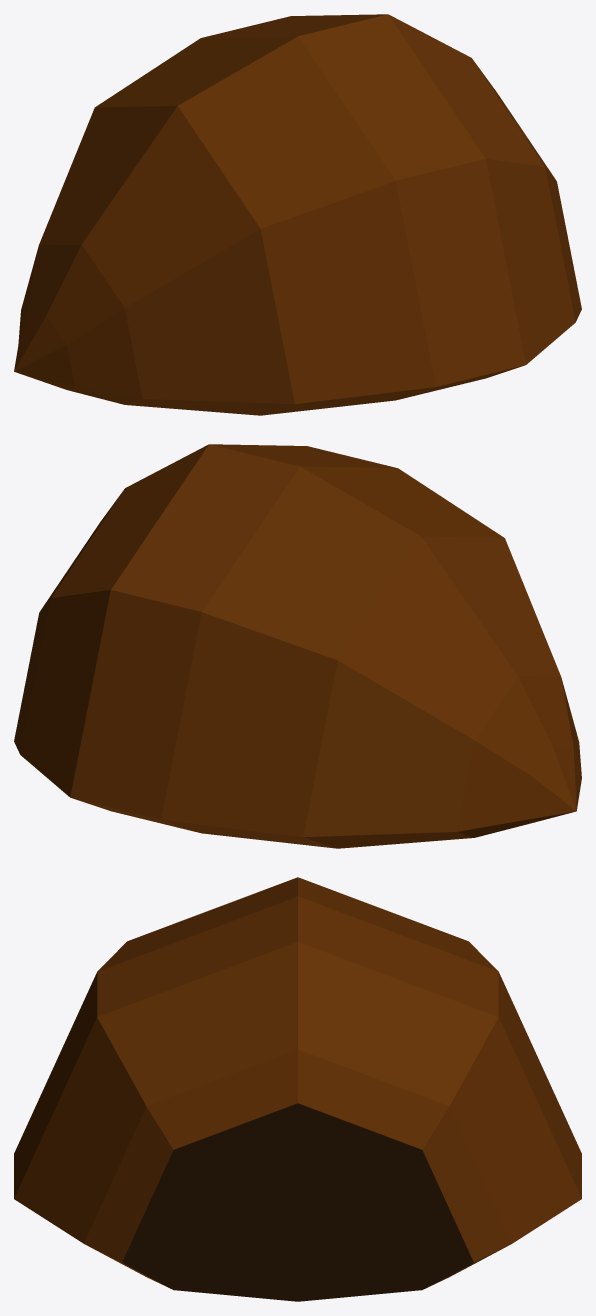
File: chestnut01.obj
3 renders of one model, top to bottom at view 1: azimuth 30°, elevation 25°; view 2: azimuth 150°, elevation 25°; view 3: azimuth 270°, elevation 25°, orthographic. The views are drawn at different scales.
Parts seen in each view (by area): view 1: Cylinder.001_Cylinder.003; view 2: Cylinder.001_Cylinder.003; view 3: Cylinder.001_Cylinder.003.
Boxes of the visible parts, x1,y1,x2,y2 form: Cylinder.001_Cylinder.003: (14, 14, 581, 415); Cylinder.001_Cylinder.003: (14, 444, 581, 848); Cylinder.001_Cylinder.003: (14, 877, 581, 1301).
Bounding box in the file's own units: 0.0271 × 0.0168 × 0.0271.
1 material, 1 textured.
